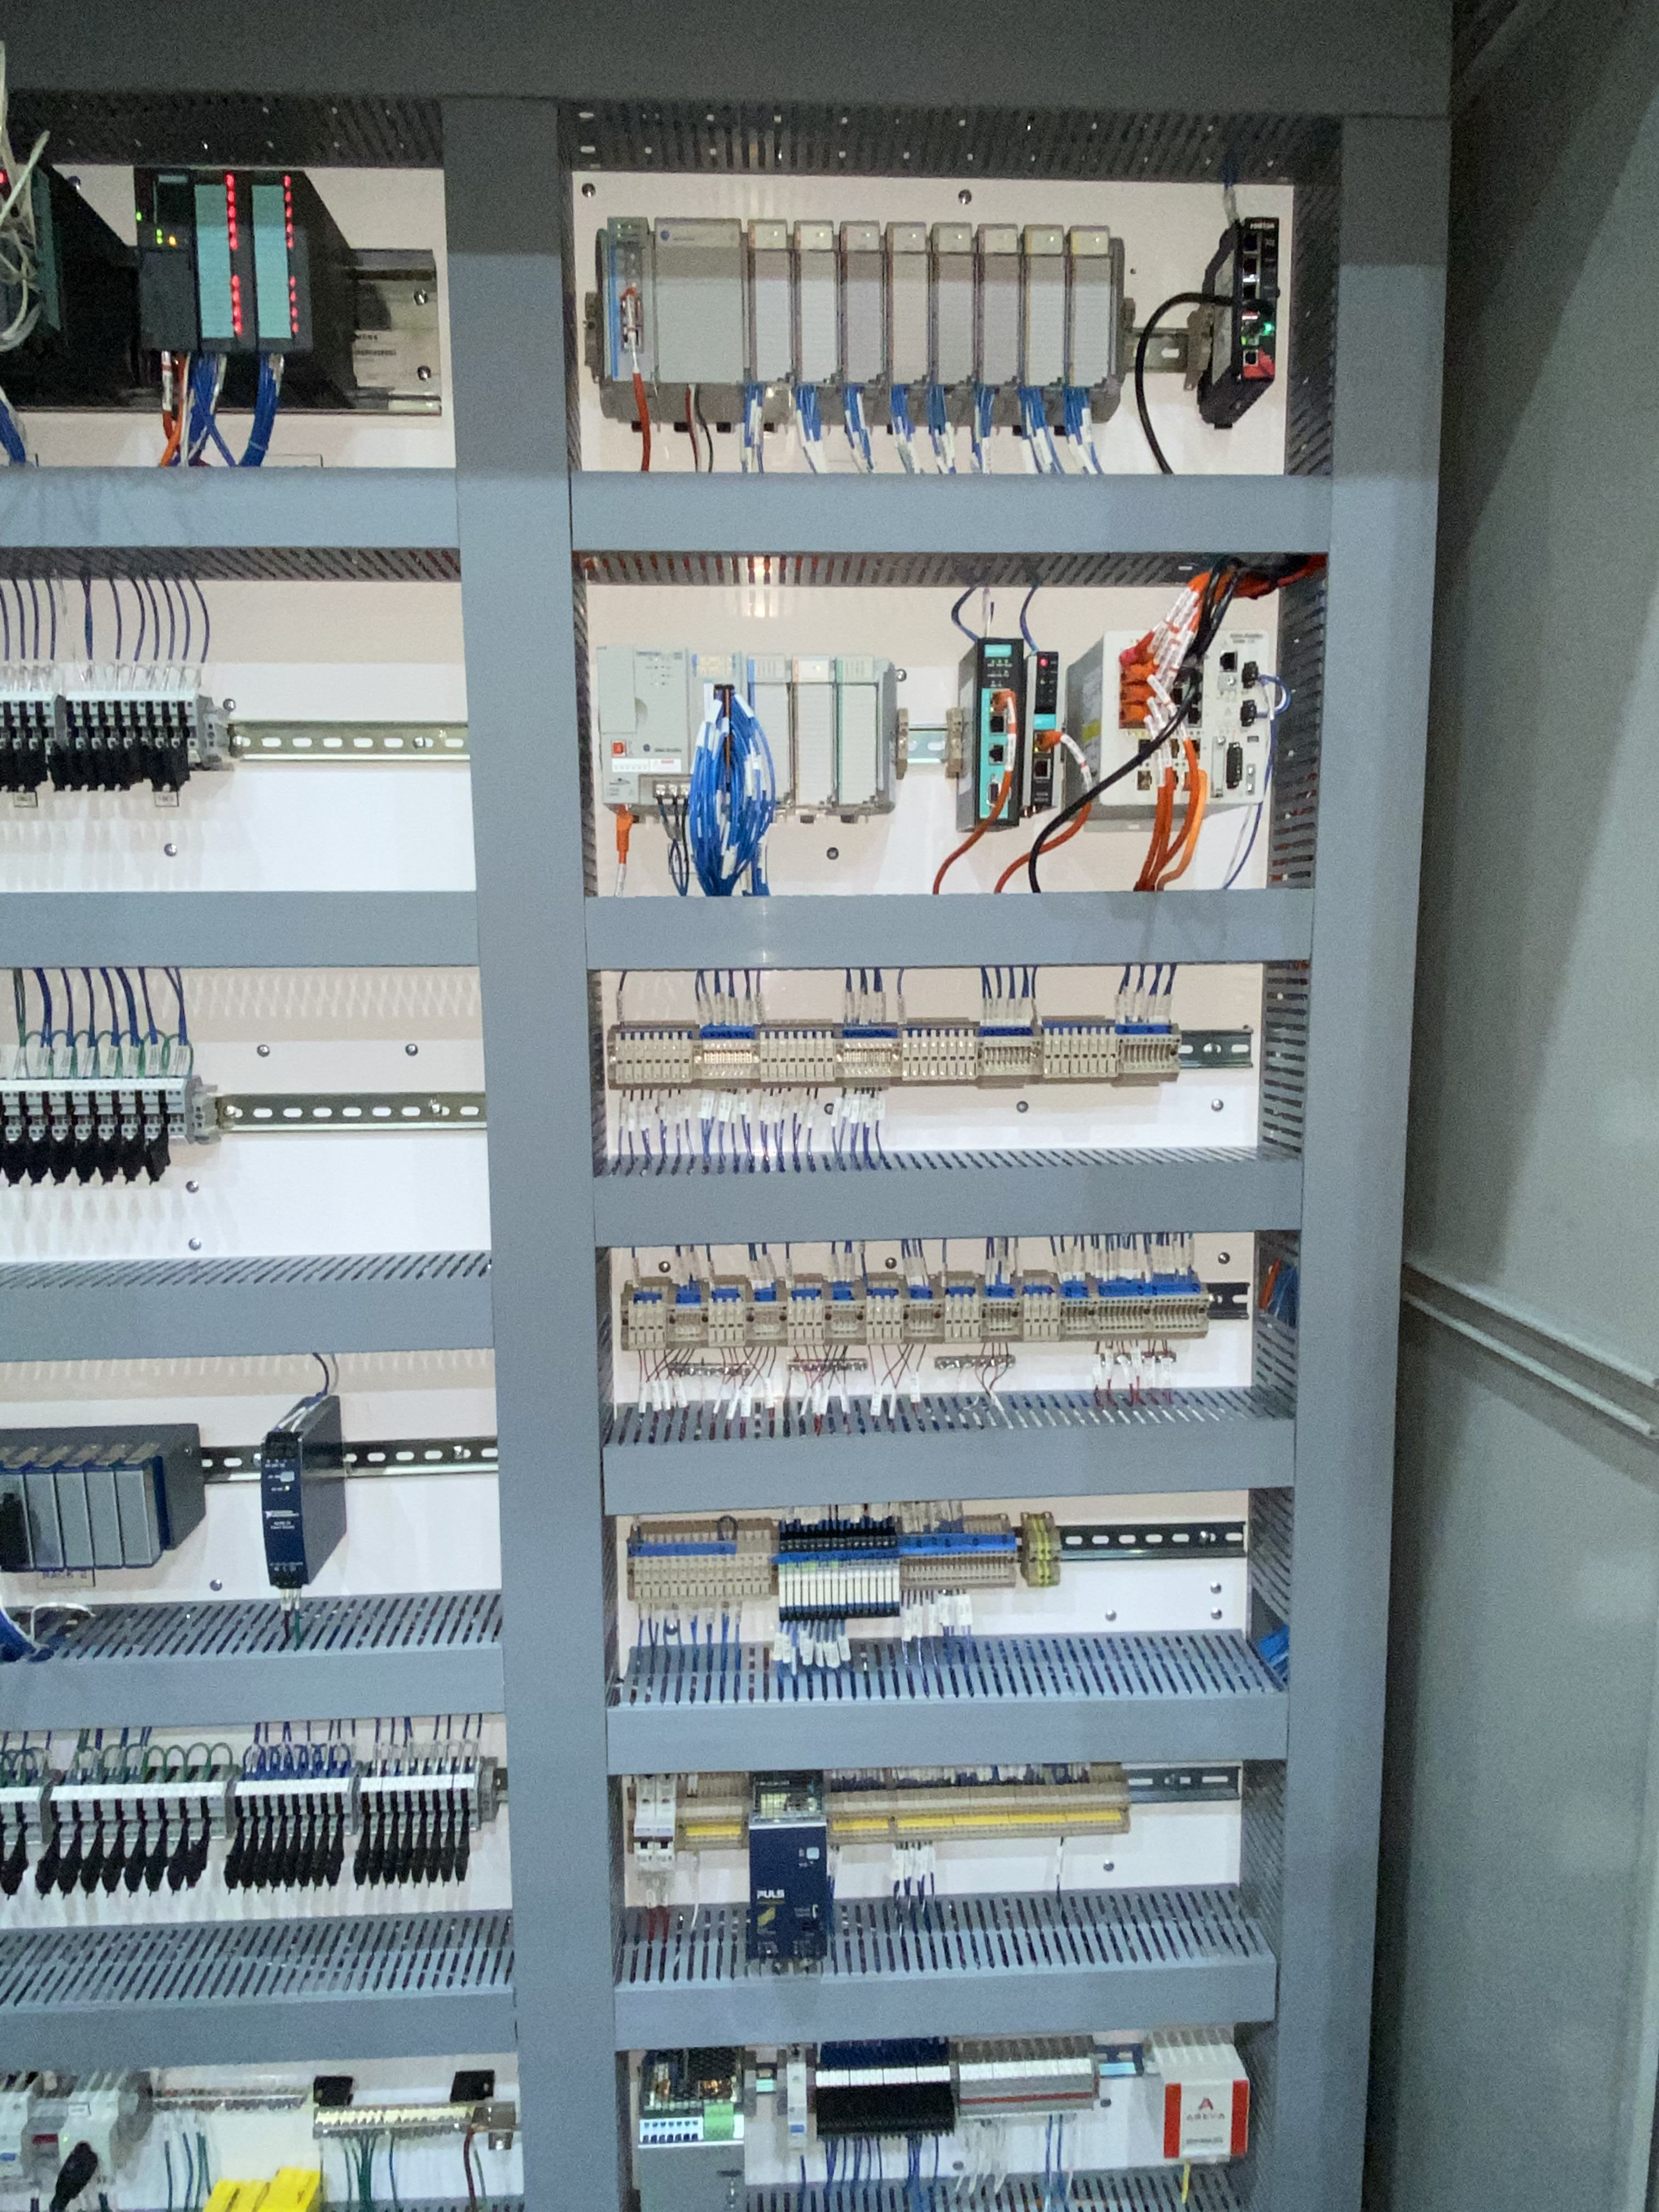AllenBradley: (591, 641, 695, 815)
